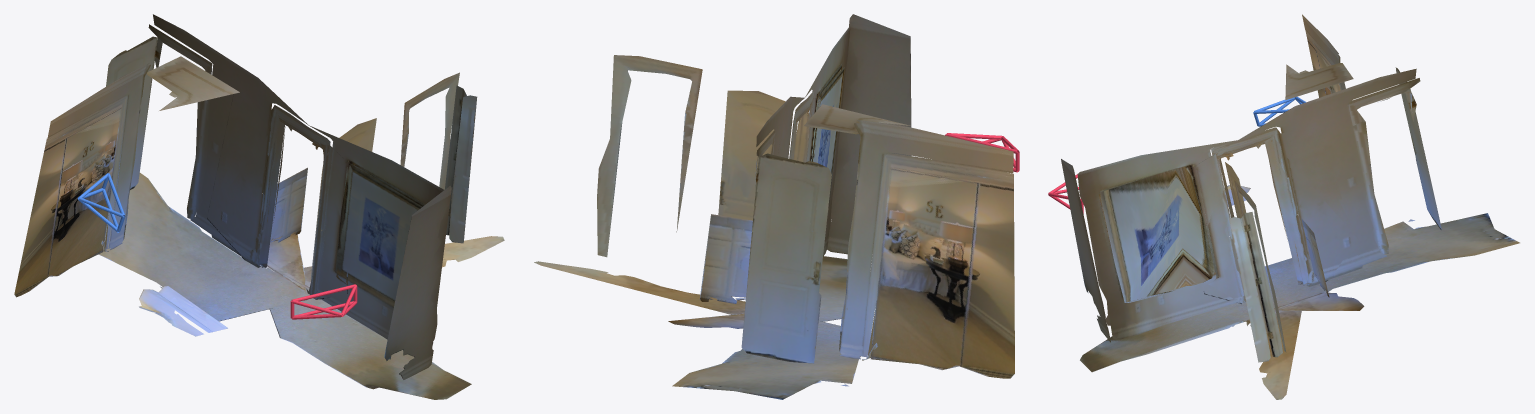
The picture shows the model from 3 angles, left to right: view 1: azimuth 30°, elevation 25°; view 2: azimuth 150°, elevation 25°; view 3: azimuth 270°, elevation 25°; orthographic projection. The views are drawn at different scales.
Parts seen in each view (by area): view 1: Node; view 2: Node; view 3: Node.
Boxes of the visible parts, x1,y1,x2,y2 form: Node: [14, 14, 504, 399]; Node: [534, 14, 1019, 399]; Node: [1048, 14, 1519, 399].
Size of the model in its own units: 5.83 by 3.31 by 5.78.
Materials: 25 (23 with a texture image).
